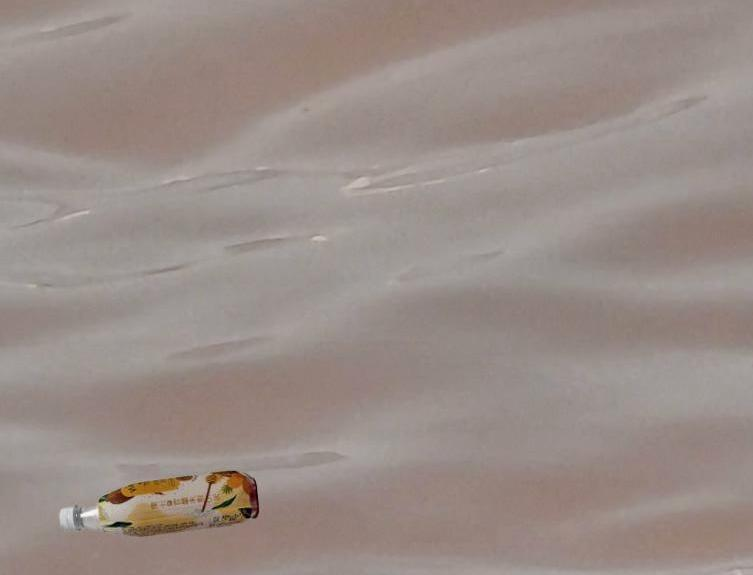Plastic: (57, 464, 263, 542)
